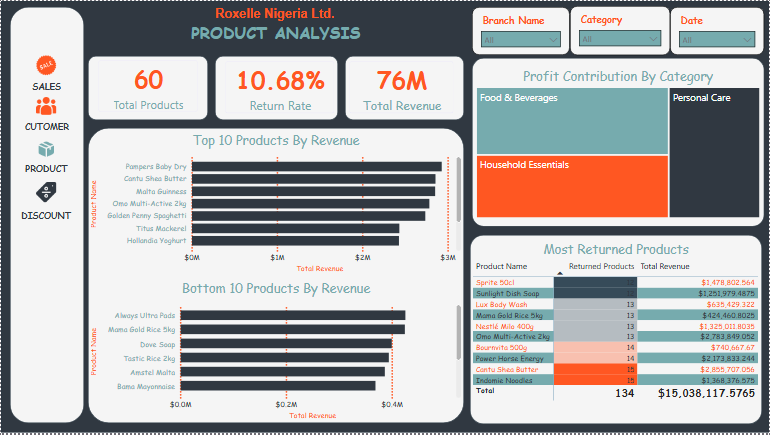

The dashboard page shown, as its layout file describes it:
{"tool":"powerbi","page":{"name":"PRODUCT PERFORMANCE AND INVENTORY ANALYSIS","canvas":[1280,720],"ordinal":2},"visuals":[{"type":"shape","box":[0,0,1280.9,719.1],"z":0},{"type":"shape","box":[14.9,10.6,123.4,693.6],"z":1000},{"type":"shape","box":[155.3,91.5,197.9,106.4],"z":2000},{"type":"shape","box":[361.7,91.5,193.6,106.4],"z":3000},{"type":"shape","box":[559.6,91.5,202.1,106.4],"z":4000},{"type":"shape","box":[155.3,212.8,606.4,491.5],"z":5000},{"type":"shape","box":[785.1,95.7,487.2,280.9],"z":6000},{"type":"cardVisual","fields":{"Data":["Measures (2).Total Products"]},"box":[155.3,74.5,197.9,123.4],"z":7000},{"type":"cardVisual","fields":{"Data":["Measures (2).Total Revenue"]},"box":[555.3,83,206.4,114.9],"z":8000},{"type":"cardVisual","fields":{"Data":["Measures (2).Return Rate"]},"box":[348.9,76.6,212.8,121.3],"z":9000},{"type":"slicer","fields":{"Values":["date.Date"]},"box":[1114.9,10.6,157.4,63.8],"z":10000},{"type":"slicer","fields":{"Values":["products.Category"]},"box":[948.9,8.5,151.1,68.1],"z":11000},{"type":"slicer","fields":{"Values":["branches.BranchName"]},"box":[785.1,10.6,146.8,66],"z":12000},{"type":"textbox","box":[155.3,0,606.4,89.4],"z":13000},{"type":"clusteredBarChart","title":"Top 10 Products By Revenue","fields":{"Y":["Measures (2).Total Revenue"],"Category":["products.ProductName"]},"box":[155.3,212.8,606.4,227.7],"z":14000},{"type":"treemap","title":"Profit Contribution By Category","fields":{"Group":["products.Category"],"Values":["Measures (2).Total Profit"]},"box":[785.1,104.3,487.2,263.8],"z":15000},{"type":"clusteredBarChart","title":"Bottom 10 Products By Revenue","fields":{"Category":["products.ProductName"],"Y":["Measures (2).Total Revenue"]},"box":[155.3,444.7,606.4,259.6],"z":16000},{"type":"shape","box":[780.9,391.5,487.2,312.8],"z":17000},{"type":"pivotTable","title":"Most Returned Products","fields":{"Rows":["products.ProductName"],"Values":["Measures (2).Returned Products","Measures (2).Total Revenue"]},"box":[781,391.4,486.2,312.1],"z":18000},{"type":"image","box":[58.6,229.3,34.5,34.5],"z":19000},{"type":"image","box":[58.6,156.9,34.5,36.2],"z":20000},{"type":"image","box":[58.6,301.7,34.5,34.5],"z":21000},{"type":"image","box":[58.6,89.7,34.5,34.5],"z":22000},{"type":"textbox","box":[39.4,125.9,72.4,31],"z":23000},{"type":"textbox","box":[32.5,193.1,86.2,36.2],"z":24000},{"type":"textbox","box":[30,263.8,91.4,37.9],"z":25000},{"type":"textbox","box":[22.2,341.4,106.9,36.2],"z":26000}]}

Visuals, with their boxes in screenshot pixels (x1, y1, x2, y2), scaled from the page's 1280x720 canvas onto the 770x435 screenshot:
shape: bbox=(0, 0, 769, 434)
shape: bbox=(9, 6, 83, 425)
shape: bbox=(93, 55, 212, 120)
shape: bbox=(218, 55, 334, 120)
shape: bbox=(337, 55, 458, 120)
shape: bbox=(93, 129, 458, 426)
shape: bbox=(472, 58, 765, 228)
cardVisual - Measures (2).Total Products: bbox=(93, 45, 212, 120)
cardVisual - Measures (2).Total Revenue: bbox=(334, 50, 458, 120)
cardVisual - Measures (2).Return Rate: bbox=(210, 46, 338, 120)
slicer - date.Date: bbox=(671, 6, 765, 45)
slicer - products.Category: bbox=(571, 5, 662, 46)
slicer - branches.BranchName: bbox=(472, 6, 561, 46)
textbox: bbox=(93, 0, 458, 54)
"Top 10 Products By Revenue" clusteredBarChart: bbox=(93, 129, 458, 266)
"Profit Contribution By Category" treemap: bbox=(472, 63, 765, 222)
"Bottom 10 Products By Revenue" clusteredBarChart: bbox=(93, 269, 458, 426)
shape: bbox=(470, 237, 763, 426)
"Most Returned Products" pivotTable: bbox=(470, 236, 762, 425)
image: bbox=(35, 139, 56, 159)
image: bbox=(35, 95, 56, 117)
image: bbox=(35, 182, 56, 203)
image: bbox=(35, 54, 56, 75)
textbox: bbox=(24, 76, 67, 95)
textbox: bbox=(20, 117, 71, 139)
textbox: bbox=(18, 159, 73, 182)
textbox: bbox=(13, 206, 78, 228)
